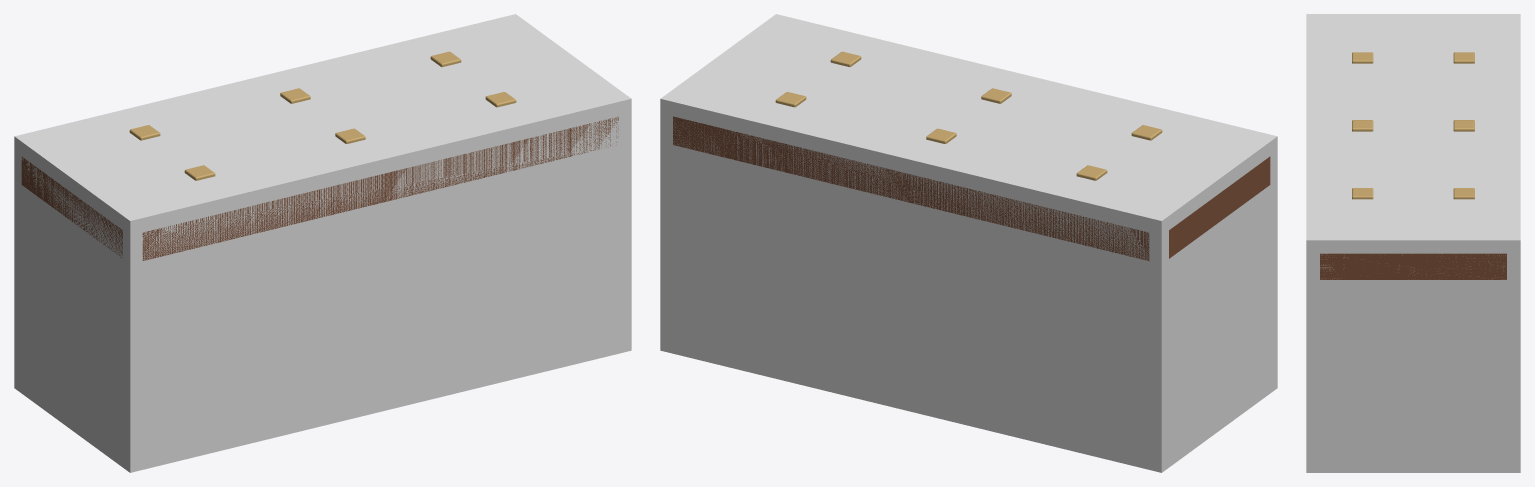
Rendered from piano_bench.glb.
The picture shows the model from 3 angles, left to right: view 1: azimuth 30°, elevation 25°; view 2: azimuth 150°, elevation 25°; view 3: azimuth 270°, elevation 25°; orthographic projection. The views are drawn at different scales.
Visible parts, largest first — view 1: living_piano_bench_COL, living_piano_bench_001_tufted_cushion; view 2: living_piano_bench_COL, living_piano_bench_001_tufted_cushion; view 3: living_piano_bench_COL, living_piano_bench_001_tufted_cushion, living_piano_bench_011_tuft_button_0_0, living_piano_bench_012_tuft_button_0_1, living_piano_bench_013_tuft_button_0_2, living_piano_bench_014_tuft_button_1_0, living_piano_bench_015_tuft_button_1_1, living_piano_bench_016_tuft_button_1_2.
Boxes of the visible parts, x1=… form: living_piano_bench_COL: x1=14, y1=14, x2=631, y2=472; living_piano_bench_001_tufted_cushion: x1=21, y1=117, x2=618, y2=260; living_piano_bench_COL: x1=660, y1=14, x2=1277, y2=472; living_piano_bench_001_tufted_cushion: x1=673, y1=116, x2=1270, y2=260; living_piano_bench_COL: x1=1306, y1=14, x2=1520, y2=472; living_piano_bench_001_tufted_cushion: x1=1320, y1=253, x2=1506, y2=279; living_piano_bench_011_tuft_button_0_0: x1=1453, y1=52, x2=1474, y2=63; living_piano_bench_012_tuft_button_0_1: x1=1453, y1=120, x2=1474, y2=131; living_piano_bench_013_tuft_button_0_2: x1=1453, y1=188, x2=1474, y2=199; living_piano_bench_014_tuft_button_1_0: x1=1352, y1=52, x2=1373, y2=63; living_piano_bench_015_tuft_button_1_1: x1=1352, y1=120, x2=1373, y2=131; living_piano_bench_016_tuft_button_1_2: x1=1352, y1=188, x2=1373, y2=199.
Bounding box in the file's own units: 1 × 0.486 × 0.4.
